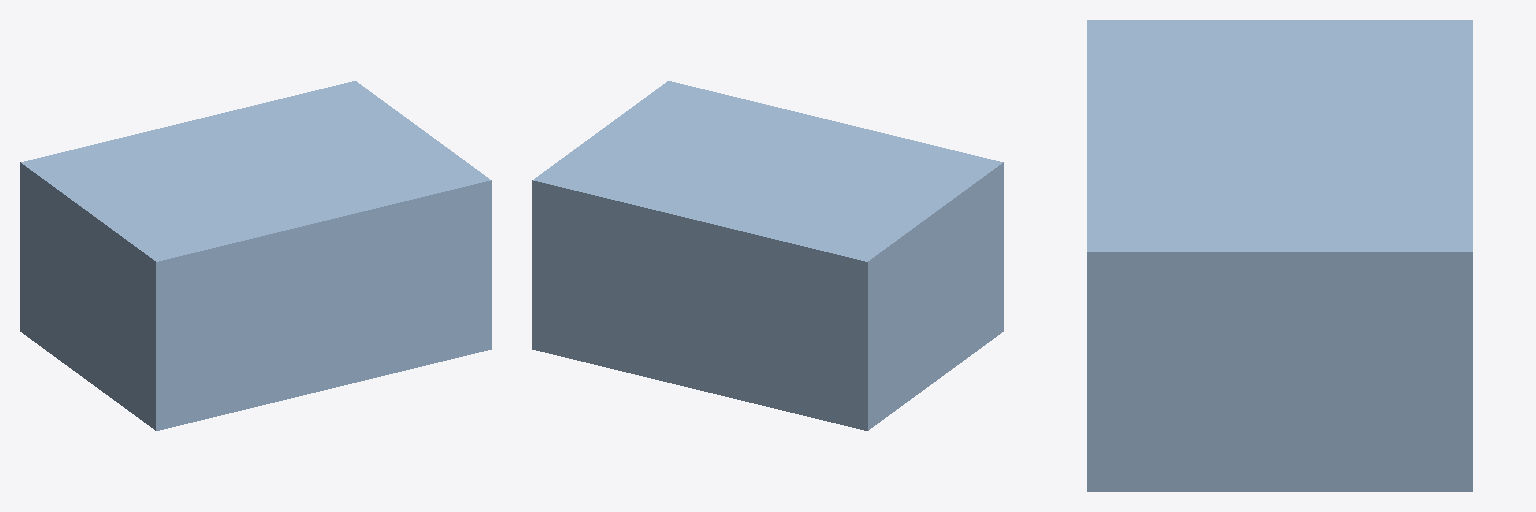
robot.urdf — box_46:
<?xml version="1.0" ?>
<robot name="box_46">
  <dynamics damping="0.5" friction="0.9"/>
  <link name="baseLink">
    <inertial>
      <mass value="0.1"/>
      <origin xyz="0 0 0"/>
      <inertia ixx="0.00094339226" ixy="0" ixz="0" iyy="0.0015988386" iyz="0" izz="0.0019375646"/>
    </inertial>
    <contact>
      <lateral_friction value="0.9"/>
      <rolling_friction value="0.5"/>
      <stiffness value="30000"/>
      <damping value="1000"/>
    </contact>
    <visual>
      <origin rpy="0 0 0" xyz="0 0 0"/>
      <geometry>
        <mesh filename="box_46.obj" scale="1.0 1.0 1.0"/>
      </geometry>
      <material name="mat">
        <color rgba="0.7 0.8 0.9 1"/>
      </material>
    </visual>
    <collision>
      <origin rpy="0 0 0" xyz="0 0 0"/>
      <geometry>
        <mesh filename="box_46.obj" scale="1.0 1.0 1.0"/>
      </geometry>
    </collision>
  </link>
</robot>

--- What the picture shows (computed from the rendered views, not written in the file) ---
The picture shows the robot from 3 angles, left to right: view 1: azimuth 30°, elevation 25°; view 2: azimuth 150°, elevation 25°; view 3: azimuth 270°, elevation 25°; orthographic projection.
Robot: box_46 — 1 links, 0 joints (none); root link baseLink; default pose: every joint at zero.
Visible links, largest first — view 1: baseLink; view 2: baseLink; view 3: baseLink.
Boxes of the visible links, box(x1,y1,x2,y2) form: baseLink: box(20, 81, 491, 430); baseLink: box(532, 81, 1003, 430); baseLink: box(1087, 20, 1472, 491).
Bounding box of the posed robot: 0.3944 × 0.2774 × 0.1905 m (x, y, z).
1 mesh visuals loaded from 1 distinct referenced files (1 OBJ).
